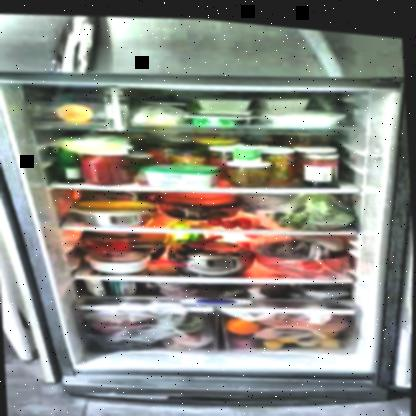banana: (78, 193, 160, 215)
cheese: (146, 157, 221, 187), (66, 131, 127, 154)
cream_cheese: (185, 104, 256, 125)
lemon: (263, 332, 288, 344)
lettuce: (274, 186, 354, 226)
mineral_water: (53, 144, 82, 184)
orange: (227, 312, 264, 332)
tomato: (92, 236, 134, 257), (208, 210, 253, 226)
tomato_paste: (80, 146, 136, 187)
yoghurt: (230, 137, 267, 161)
